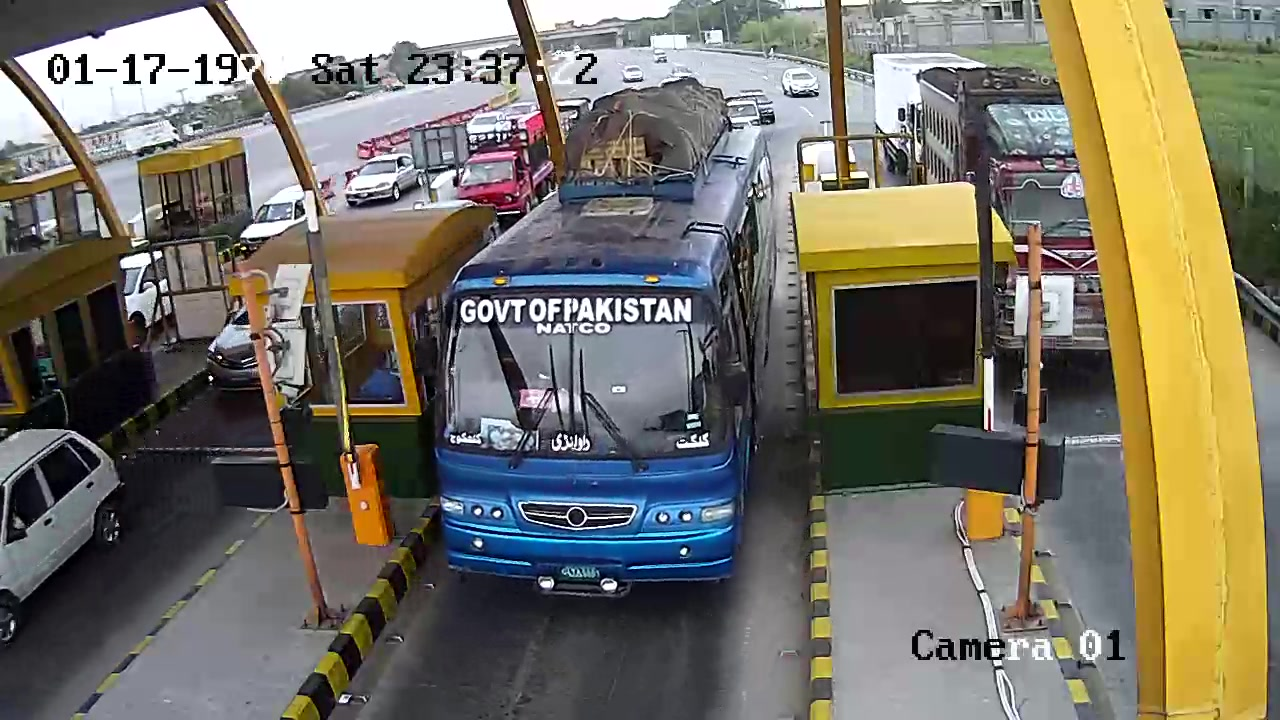F4: (427, 83, 794, 623)
